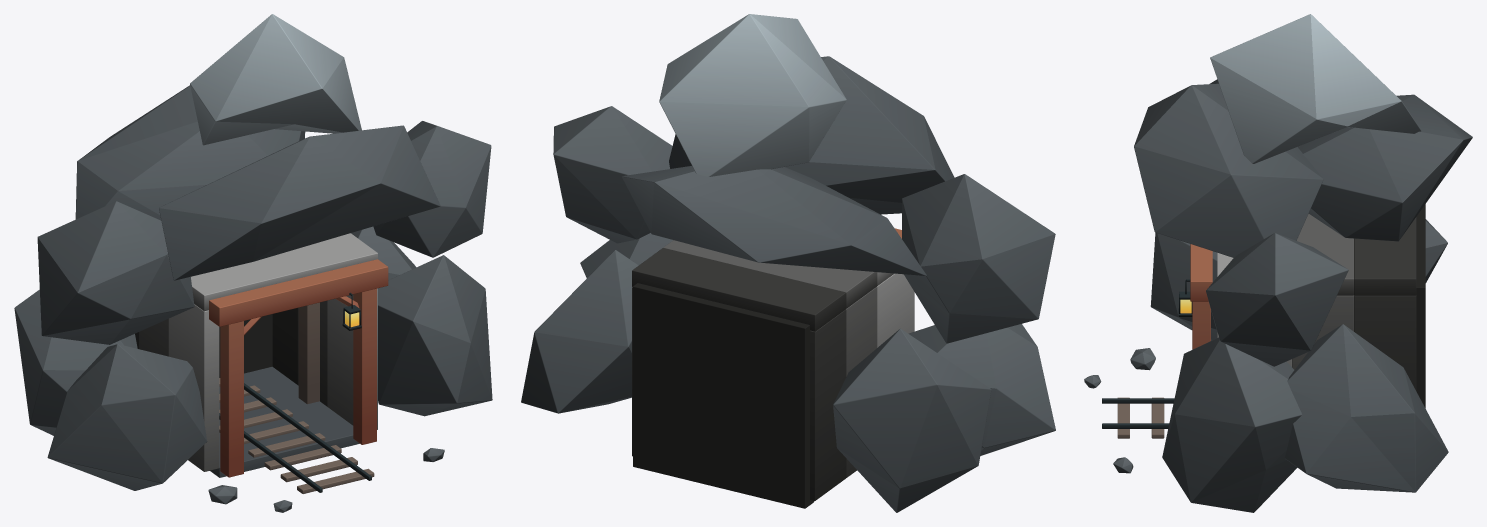
The model's file is mine_entrance.glb.
3 views of the same model, side by side, from view 1: azimuth 30°, elevation 25°; view 2: azimuth 150°, elevation 25°; view 3: azimuth 270°, elevation 25° (orthographic). The views are drawn at different scales.
Parts seen in each view (by area): view 1: mine_entrance; view 2: mine_entrance; view 3: mine_entrance.
Part boxes in pixels (left/top/right/bottom): mine_entrance: left=14, top=14, right=492, bottom=512; mine_entrance: left=521, top=14, right=1055, bottom=512; mine_entrance: left=1084, top=14, right=1472, bottom=512.
Size of the model in its own units: 8.98 by 7.7 by 6.24.
Materials: 2 (2 with a texture image).
